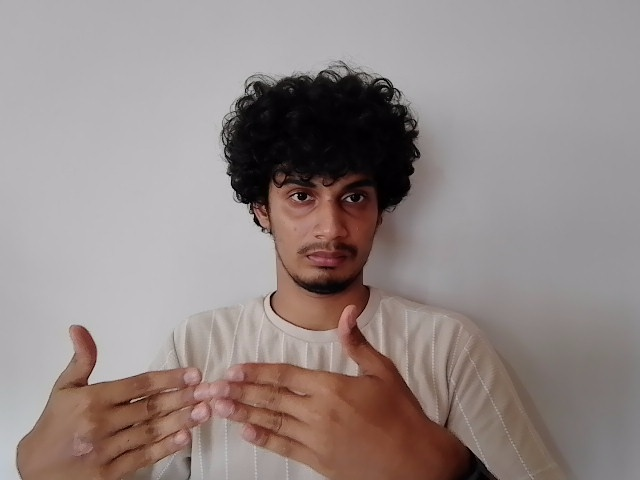family: (16, 306, 462, 480)
